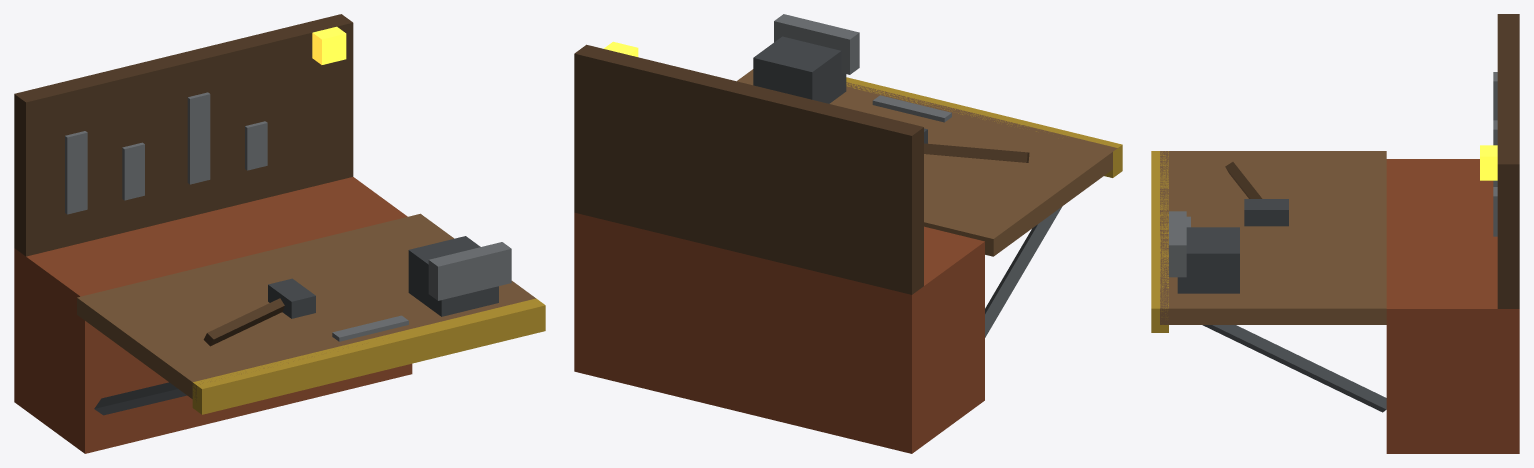
File: upg_workbench.glb
3 renders of one model, left to right at view 1: azimuth 30°, elevation 25°; view 2: azimuth 150°, elevation 25°; view 3: azimuth 270°, elevation 25°, orthographic. The views are drawn at different scales.
Parts seen in each view (by area): view 1: workbench; view 2: workbench; view 3: workbench.
Boxes of the visible parts, x1,y1,x2,y2 form: workbench: [14, 14, 545, 453]; workbench: [574, 14, 1122, 453]; workbench: [1151, 14, 1519, 453].
Size of the model in its own units: 0.84 by 0.72 by 0.83.
